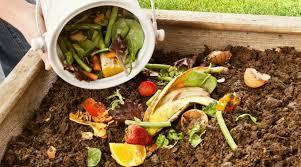Organic: (0, 5, 301, 167)
